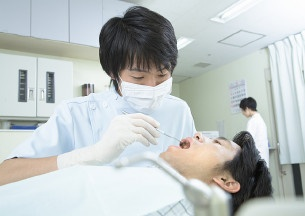Mask: (122, 58, 177, 113)
